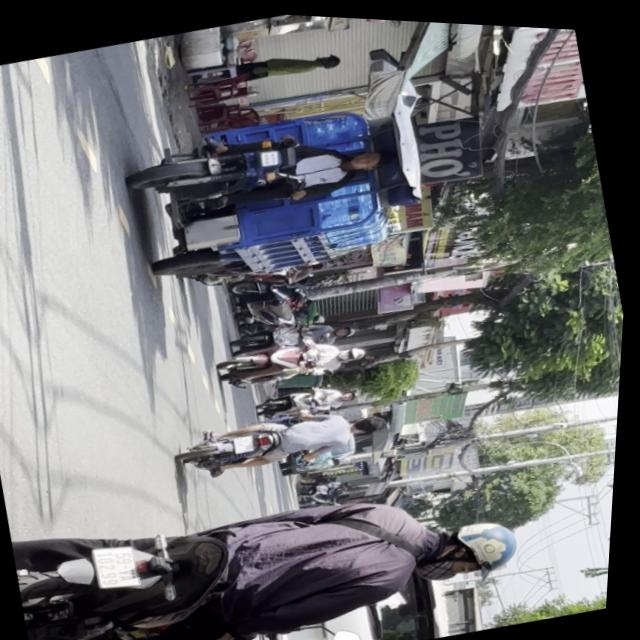helmet: (423, 505, 530, 582), (337, 339, 372, 362)
licenseplate: (16, 424, 548, 640), (117, 74, 453, 311), (178, 384, 396, 489), (213, 320, 376, 400)
motorcyclist: (341, 142, 385, 172), (353, 407, 391, 434)
nohelmet: (98, 539, 149, 590), (236, 430, 260, 451)
